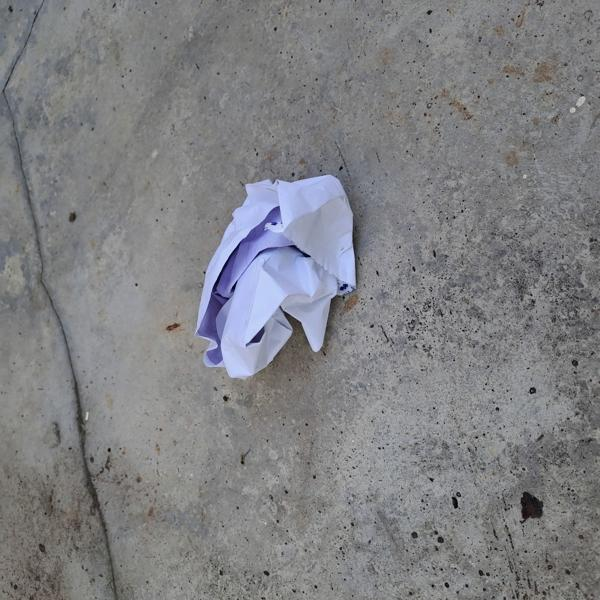Organik: (179, 156, 376, 407)
